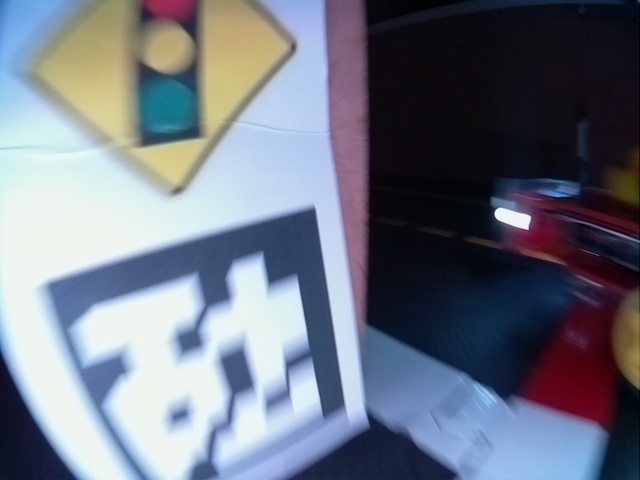Duckiebot: (489, 184, 636, 392)
QR code: (42, 207, 351, 477)
Signal sign: (16, 3, 305, 197)
